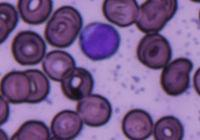L: (80, 21, 121, 60)
